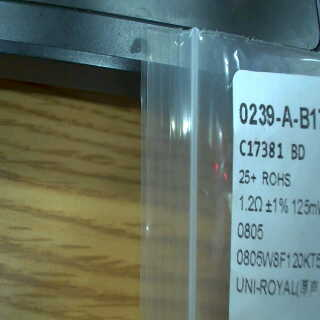1.2R: (235, 185, 265, 244)
